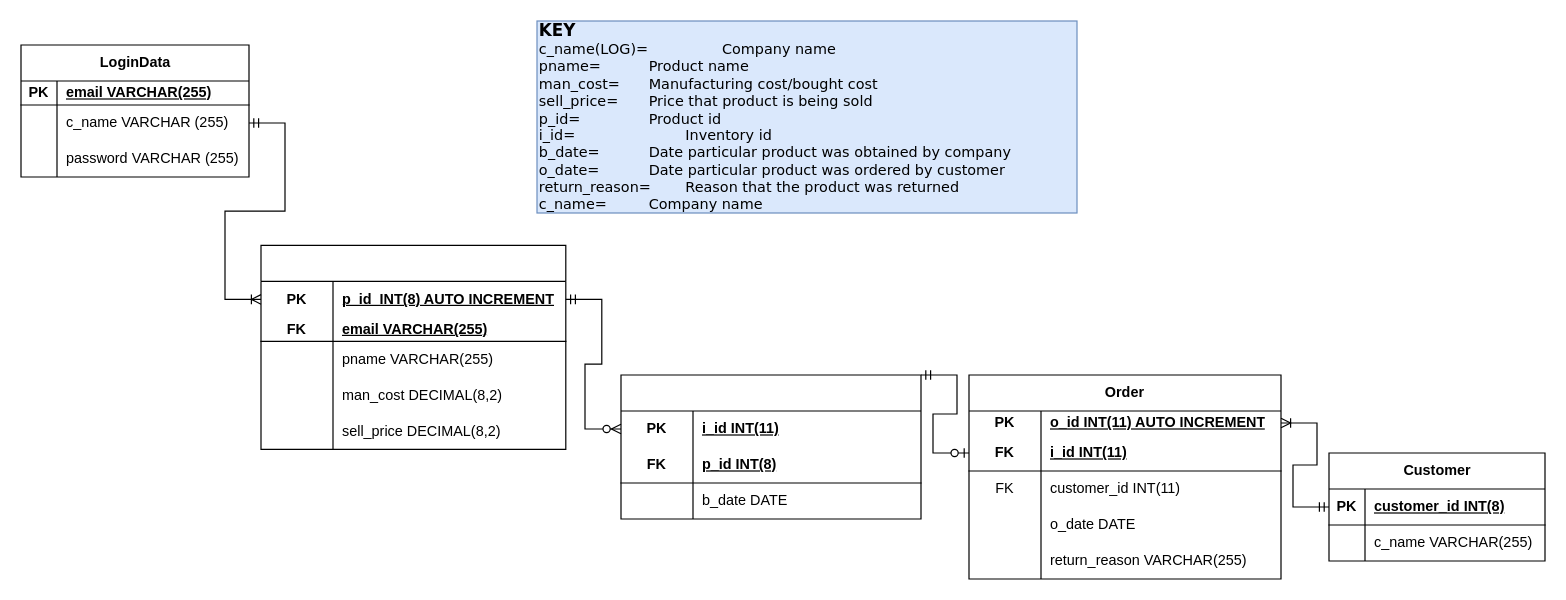
The diagram is 1566 pixels wide and 600 high, and some of its shapes have lost their labels. Here are the shapes that lost their labels. From the top down, the box of each, then its label:
(260, 244, 566, 449): Products
(620, 374, 921, 519): Inventory
